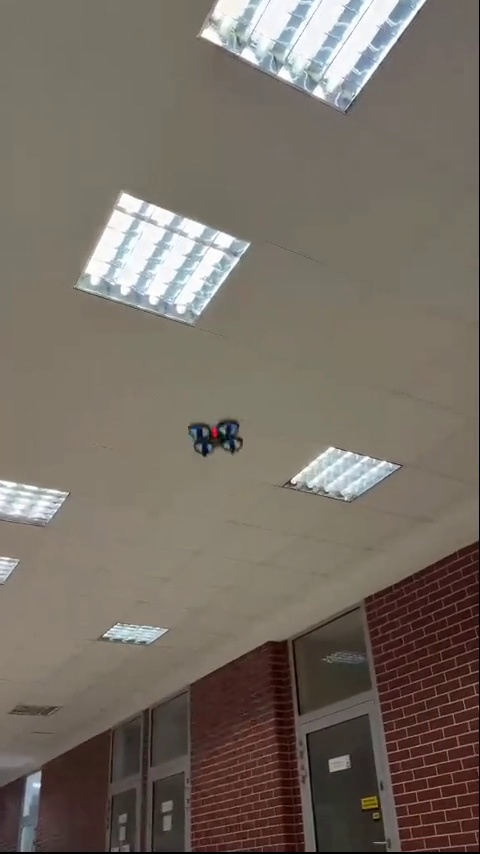drone: (188, 423, 243, 460)
